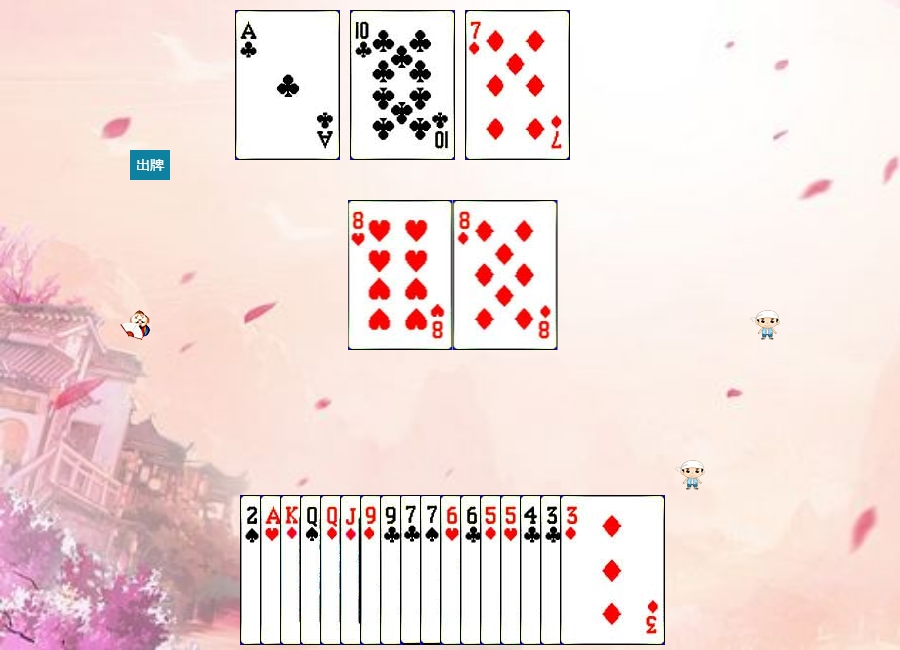10~2: (350, 10, 455, 160)
11~1: (340, 495, 445, 645)
12~1: (320, 495, 425, 645)
12~4: (300, 495, 405, 645)
13~1: (280, 495, 385, 645)
14~2: (235, 10, 340, 160)
14~3: (260, 495, 365, 645)
15~4: (240, 495, 345, 645)
3~1: (560, 495, 665, 645)
3~2: (540, 495, 645, 645)
4~2: (520, 495, 625, 645)
5~1: (480, 495, 585, 645)
5~3: (500, 495, 605, 645)
6~2: (460, 495, 565, 645)
6~3: (440, 495, 545, 645)
7~1: (465, 10, 570, 160)
7~2: (400, 495, 505, 645)
7~4: (420, 495, 525, 645)
8~1: (453, 200, 558, 350)
8~3: (348, 200, 453, 350)
9~1: (360, 495, 465, 645)
9~2: (380, 495, 485, 645)
